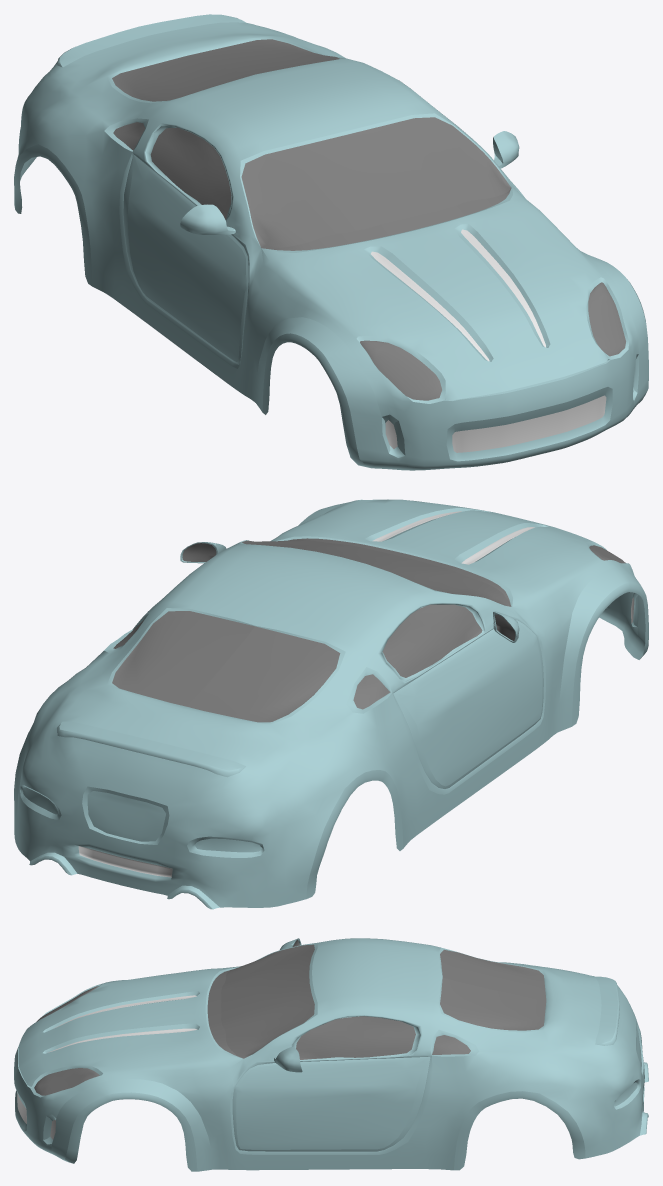
Rendered from Car.fbx.
The picture shows the model from 3 angles, top to bottom: view 1: azimuth 30°, elevation 25°; view 2: azimuth 150°, elevation 25°; view 3: azimuth 270°, elevation 25°; orthographic projection. The views are drawn at different scales.
Visible parts, largest first — view 1: 350zrelease; view 2: 350zrelease; view 3: 350zrelease.
Part boxes in pixels (<box>): 350zrelease: <box>14,14,648,470</box>; 350zrelease: <box>14,499,648,909</box>; 350zrelease: <box>14,938,648,1171</box>.
Size of the model in its own units: 8.84 by 4.92 by 19.11.
